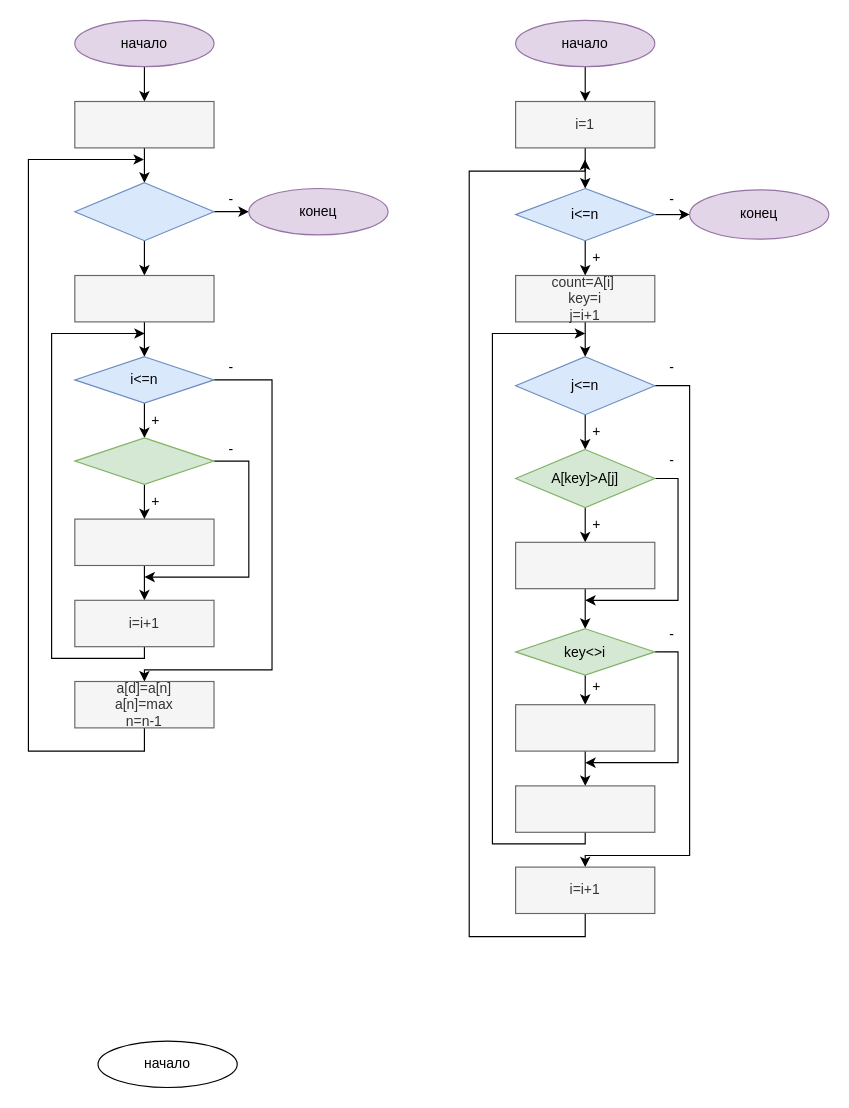
Image size: 849x1108. Some labels were removed from this diagram. Each missing label, with the centre of its shape:
"A[i]=A[key] A[key]=count" goes at [584,727].
"a[i]>max" goes at [144,460].
"j=j+1" goes at [584,808].
"key=j" goes at [584,565].
"max=a[1] d=1 i=2" goes at [144,298].
"max=a[i] d=i" goes at [144,542].
"n=10 a - массив" goes at [144,124].
"n>1" goes at [144,211].
